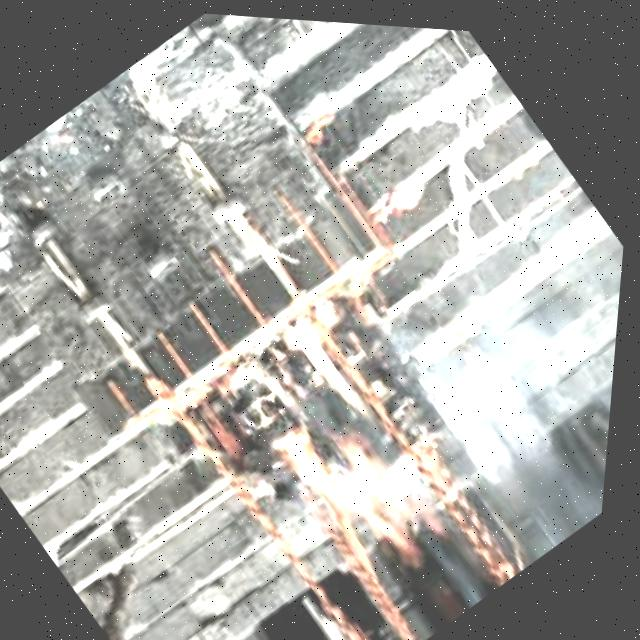Fire: (217, 293, 492, 584)
